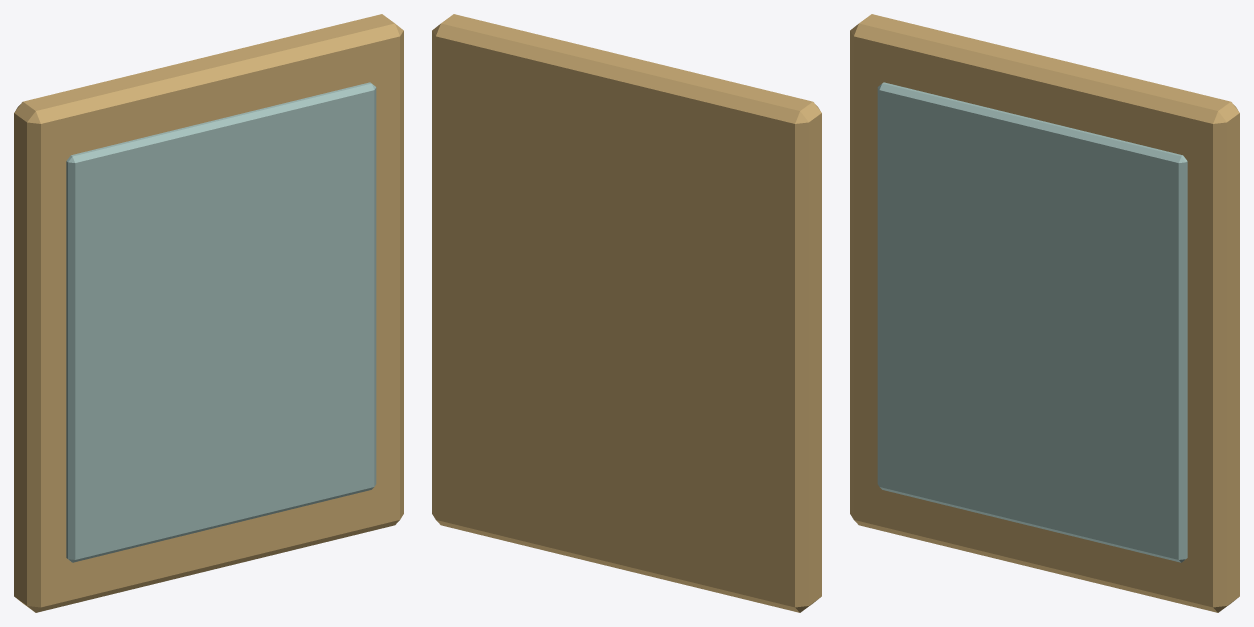
File: fur02_level_1.glb
3 views of the same model, side by side, from view 1: azimuth 30°, elevation 25°; view 2: azimuth 150°, elevation 25°; view 3: azimuth 330°, elevation 25° (orthographic).
Visible parts, largest first — view 1: fur02_level_1; view 2: fur02_level_1; view 3: fur02_level_1.
Boxes of the visible parts, left/top/right/bottom form: fur02_level_1: left=14, top=14, right=403, bottom=612; fur02_level_1: left=432, top=14, right=821, bottom=612; fur02_level_1: left=850, top=14, right=1239, bottom=612.
Bounding box in the file's own units: 0.33 × 0.42 × 0.0415.
